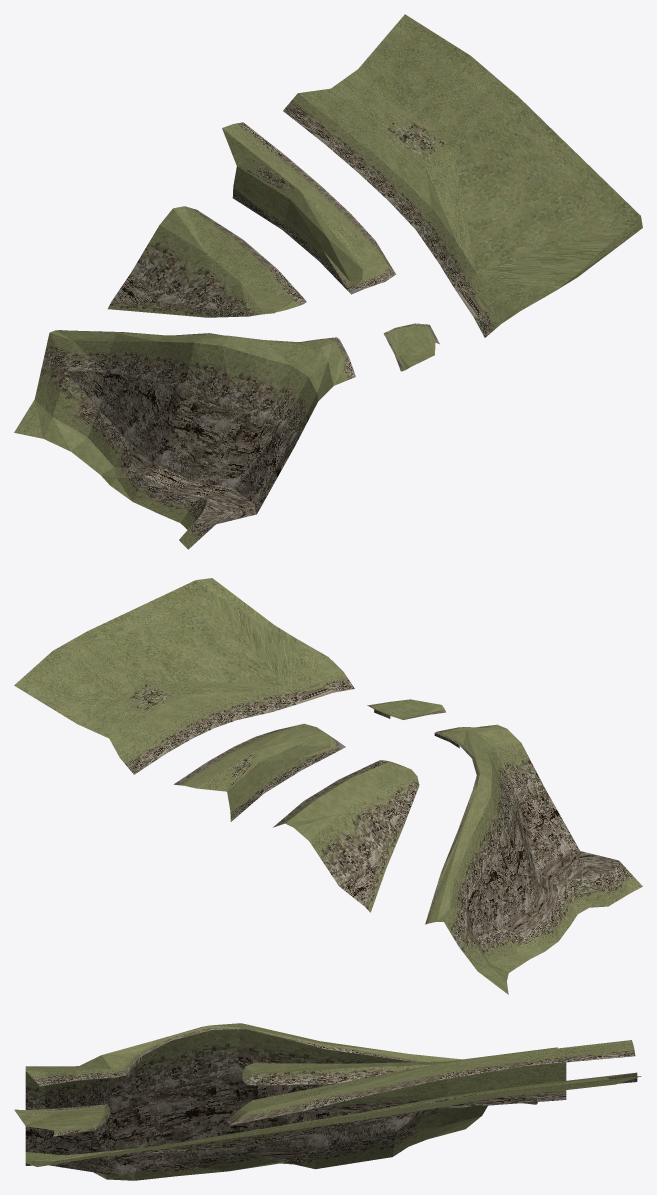
The model's file is lod_land2_sfn09.obj.
3 renders of one model, top to bottom at view 1: azimuth 30°, elevation 25°; view 2: azimuth 150°, elevation 25°; view 3: azimuth 270°, elevation 25°, orthographic. The views are drawn at different scales.
Visible parts, largest first — view 1: lod_land2_sfN09; view 2: lod_land2_sfN09; view 3: lod_land2_sfN09.
Boxes of the visible parts, x1=… form: lod_land2_sfN09: x1=14, y1=14, x2=642, y2=549; lod_land2_sfN09: x1=14, y1=578, x2=642, y2=994; lod_land2_sfN09: x1=14, y1=1023, x2=641, y2=1180.
Bounding box in the file's own units: 198 × 109 × 163.
Materials: 7 (7 with a texture image).
